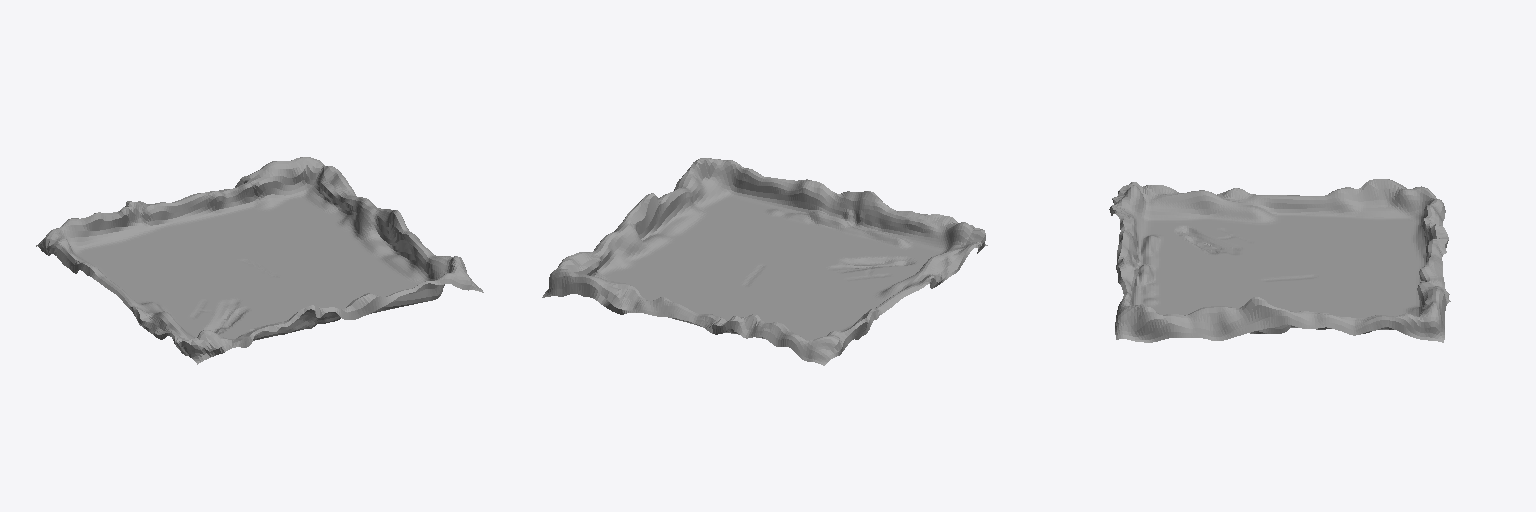
The model's file is terrain_test3.obj.
3 views of the same model, side by side, from view 1: azimuth 30°, elevation 25°; view 2: azimuth 150°, elevation 25°; view 3: azimuth 270°, elevation 25° (orthographic).
Parts seen in each view (by area): view 1: Plane_Plane.002; view 2: Plane_Plane.002; view 3: Plane_Plane.002.
Part boxes in pixels (x1,y1,x2,y2): Plane_Plane.002: (36,157,483,364); Plane_Plane.002: (542,158,987,365); Plane_Plane.002: (1109,179,1450,342).
Size of the model in its own units: 16.24 by 2.33 by 16.33.